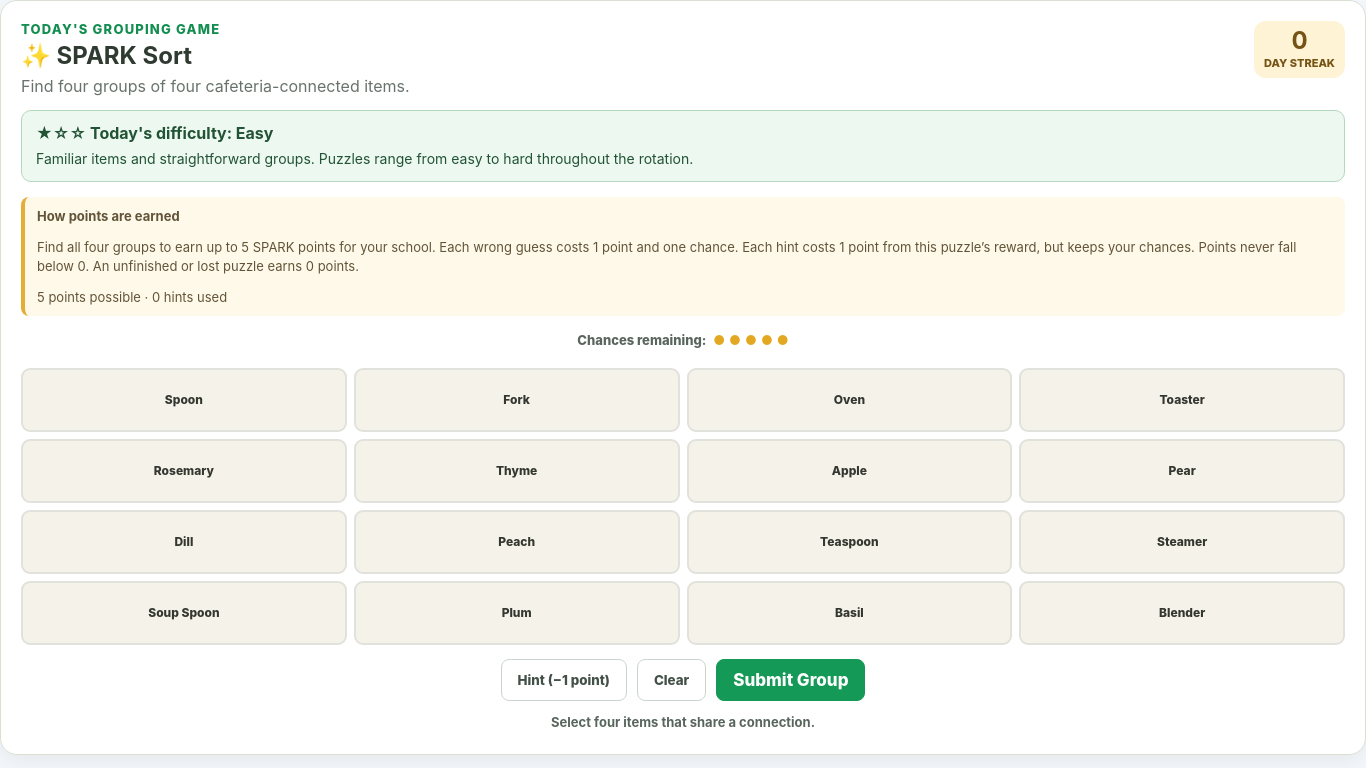
Test: paid hints persist, reveal one word per group and reduce completion points
This screenshot has width=1366, height=768.
Later steps or results of the test are not shown.
Click the button "Hint (−1 point)" at (564, 680), box 500,659 -> 627,701
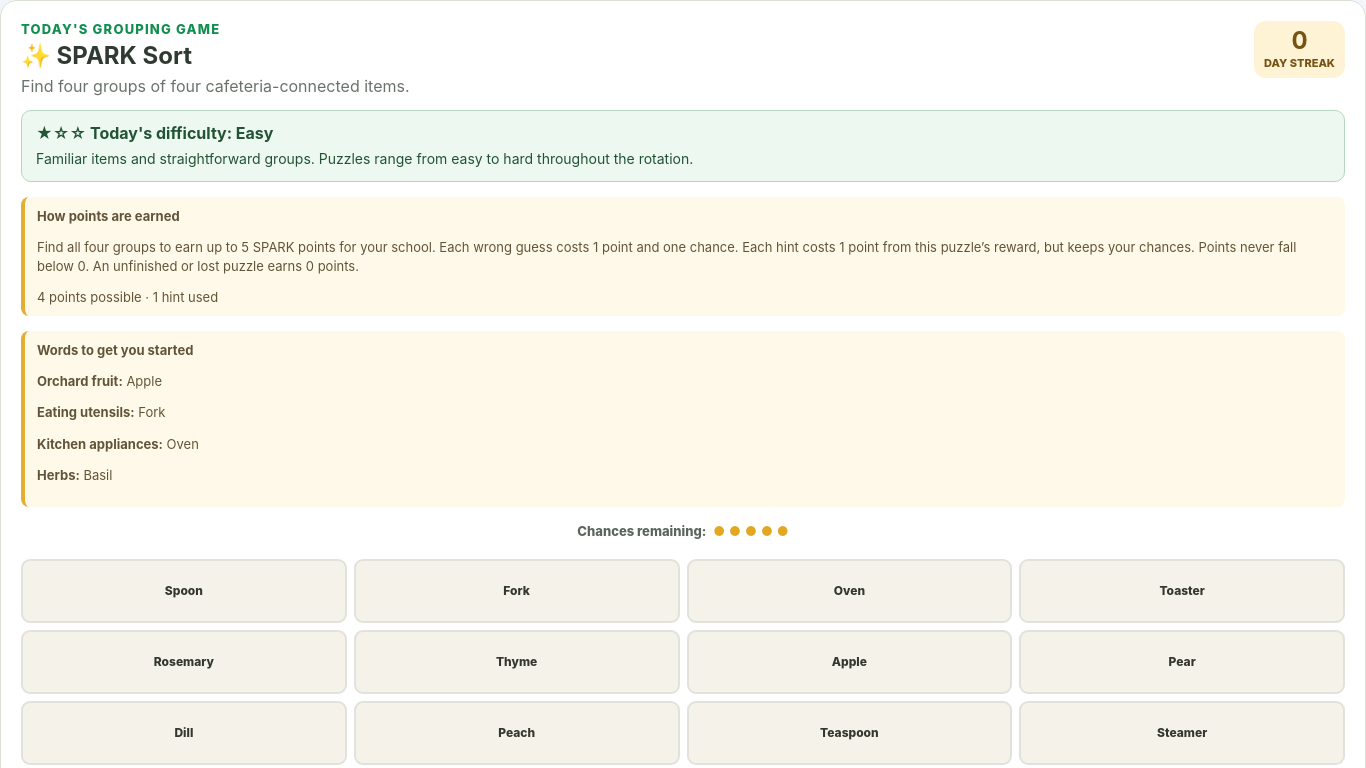
Result: the element named "Connections hints" shows "Apple" at 126,373 -> 162,389
Result: the element named "Connections hints" shows "Fork" at 138,404 -> 166,420
Result: the element named "Connections hints" shows "Oven" at 167,436 -> 199,452
